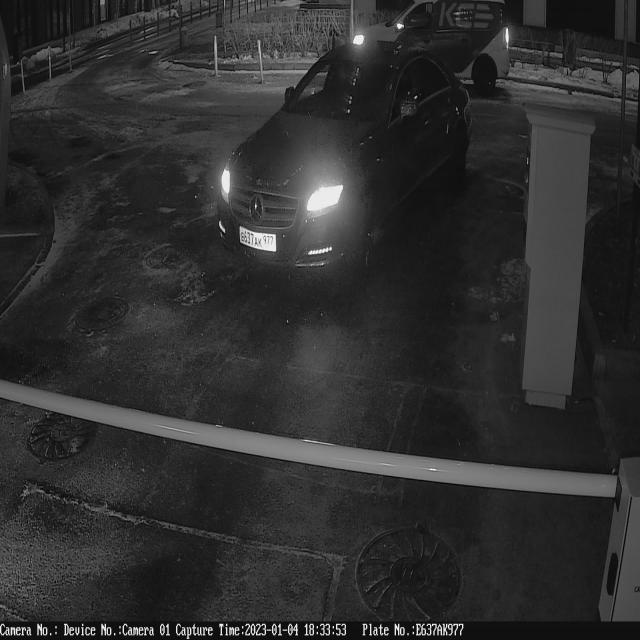car-plate-numbers: (238, 223, 279, 257)
